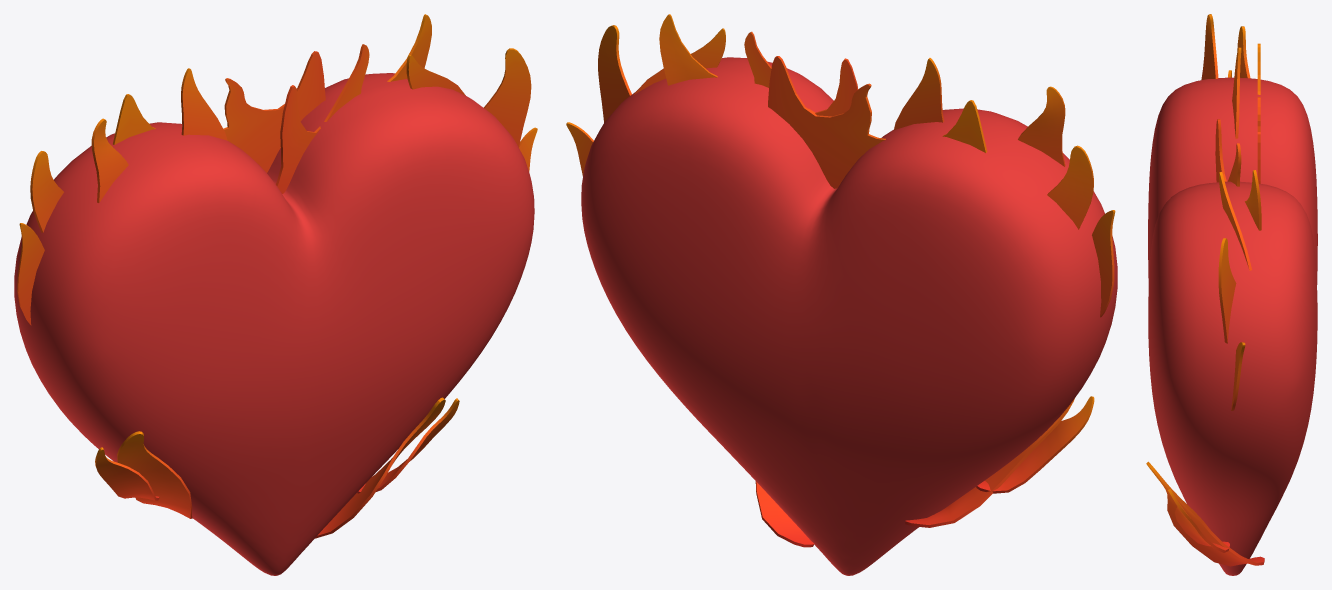
Rendered from heart_on_fire.glb.
3 renders of one model, left to right at view 1: azimuth 30°, elevation 25°; view 2: azimuth 150°, elevation 25°; view 3: azimuth 270°, elevation 25°, orthographic. The views are drawn at different scales.
Parts seen in each view (by area): view 1: hfdjkslfjkds.016, Plane.010; view 2: hfdjkslfjkds.016, Plane.010; view 3: hfdjkslfjkds.016, Plane.010.
Part boxes in pixels (x1,y1,x2,y2): hfdjkslfjkds.016: [14, 73, 534, 575]; Plane.010: [17, 14, 537, 538]; hfdjkslfjkds.016: [581, 57, 1117, 575]; Plane.010: [566, 14, 1115, 547]; hfdjkslfjkds.016: [1148, 77, 1317, 575]; Plane.010: [1146, 14, 1264, 566].
Size of the model in its own units: 1.99 by 1.9 by 0.6021.
Materials: 1 (1 with a texture image).
